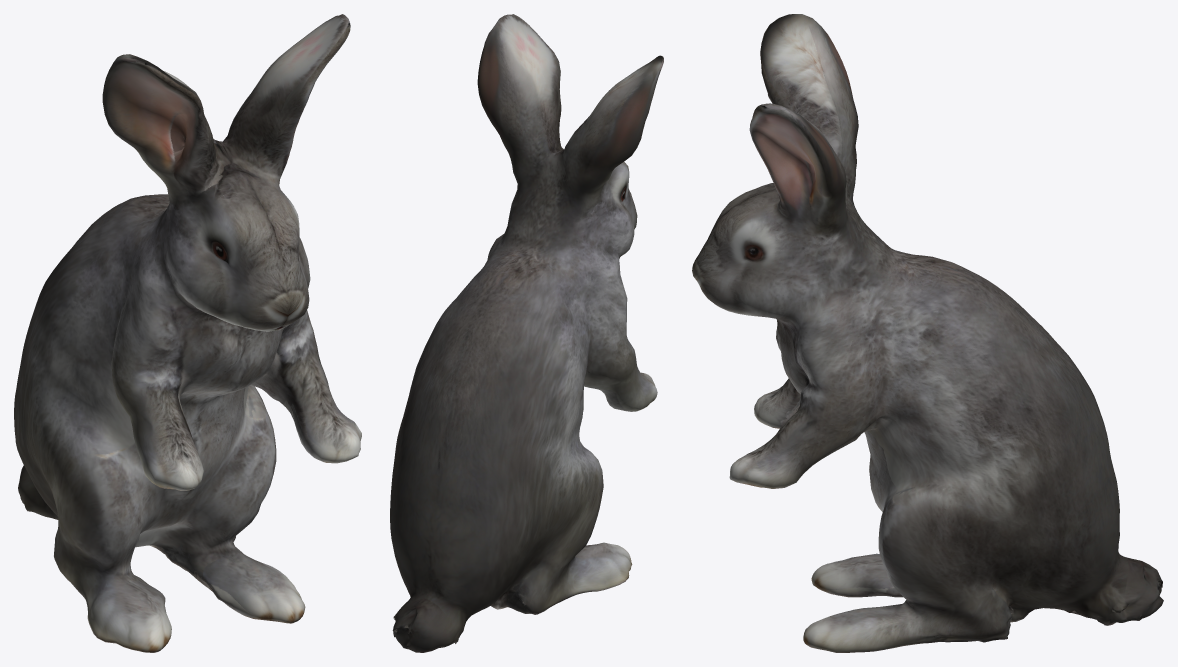
File: Rabbit.glb
The picture shows the model from 3 angles, left to right: view 1: azimuth 30°, elevation 25°; view 2: azimuth 150°, elevation 25°; view 3: azimuth 270°, elevation 25°; orthographic projection. The views are drawn at different scales.
Size of the model in its own units: 0.7351 by 1.99 by 1.52.
1 material, 1 textured.
